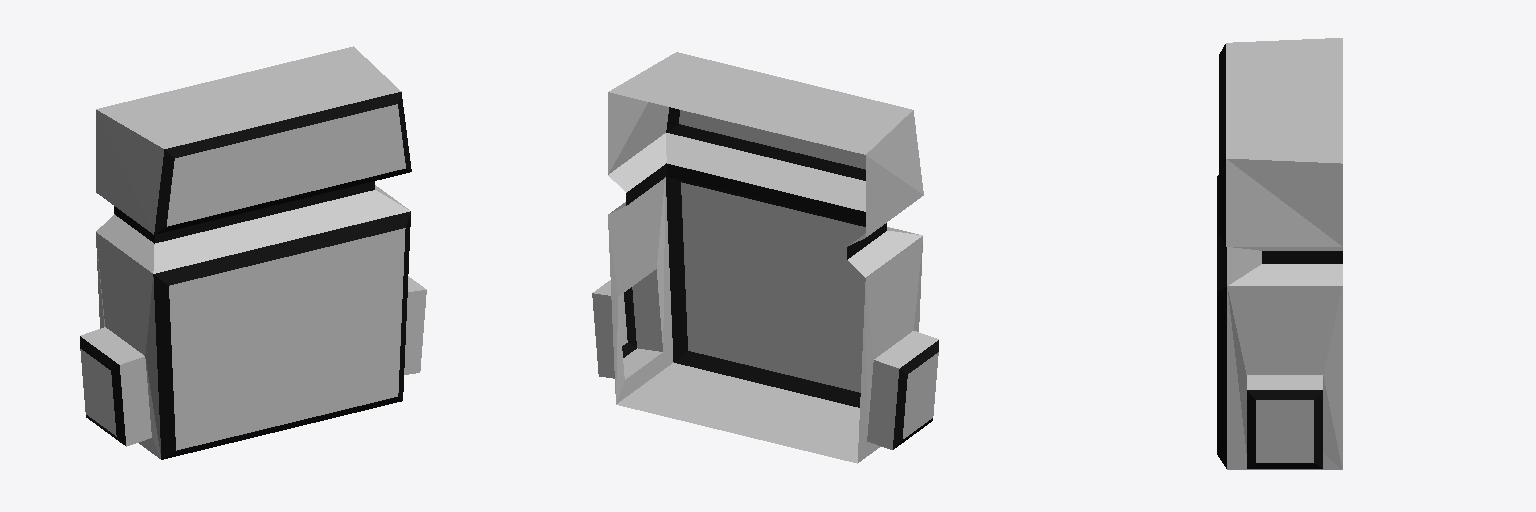
The model's file is regular_backpack.obj.
3 renders of one model, left to right at view 1: azimuth 30°, elevation 25°; view 2: azimuth 150°, elevation 25°; view 3: azimuth 270°, elevation 25°, orthographic.
Visible parts, largest first — view 1: Cube_Cube.002; view 2: Cube_Cube.002; view 3: Cube_Cube.002.
Boxes of the visible parts, x1=… form: Cube_Cube.002: x1=80, y1=46, x2=426, y2=459; Cube_Cube.002: x1=592, y1=52, x2=938, y2=463; Cube_Cube.002: x1=1217, y1=38, x2=1342, y2=469.
Bounding box in the file's own units: 0.527 × 0.4957 × 0.1808.